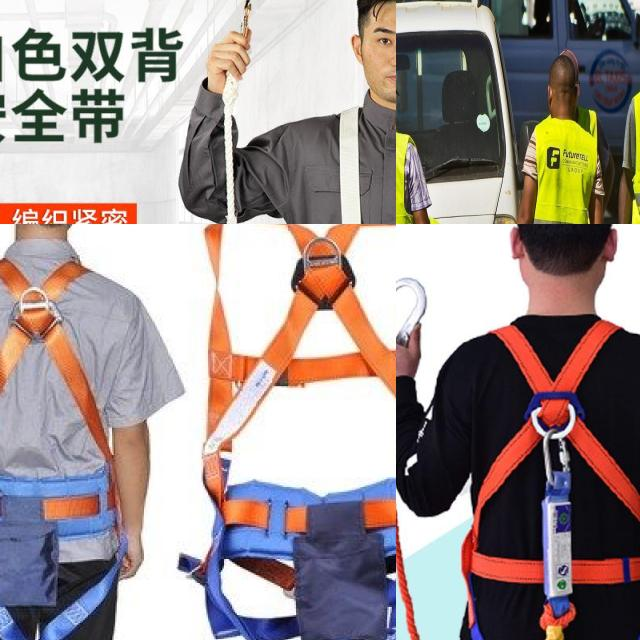Harness: (193, 224, 396, 640), (462, 314, 640, 640), (0, 247, 123, 640)
head_nohelmet: (545, 31, 579, 87)
person: (518, 51, 591, 224)
vest: (528, 118, 597, 224)
